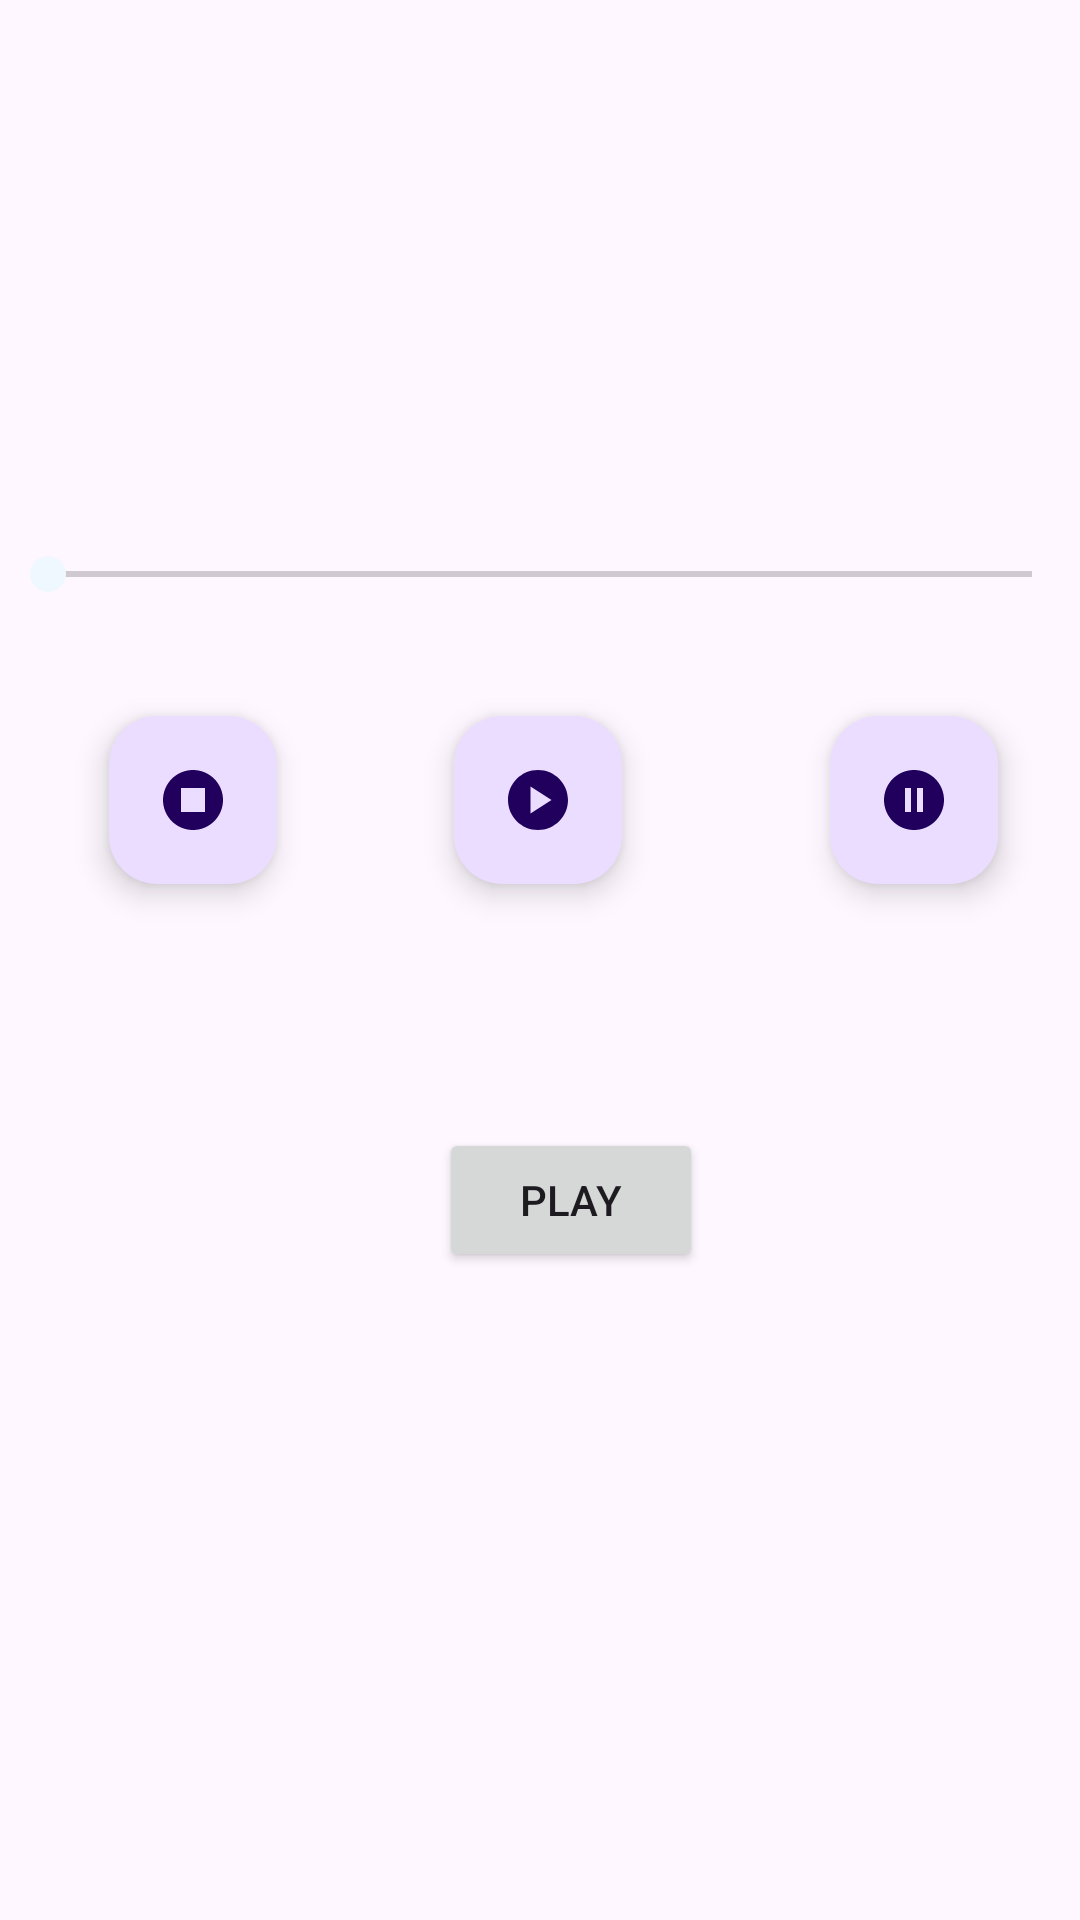

Icons on this 1080px x 1920px Android screen, each with the point to tap as point (x, y):
pause circle: point (914, 800)
play circle: point (538, 800)
stop circle: point (193, 800)
